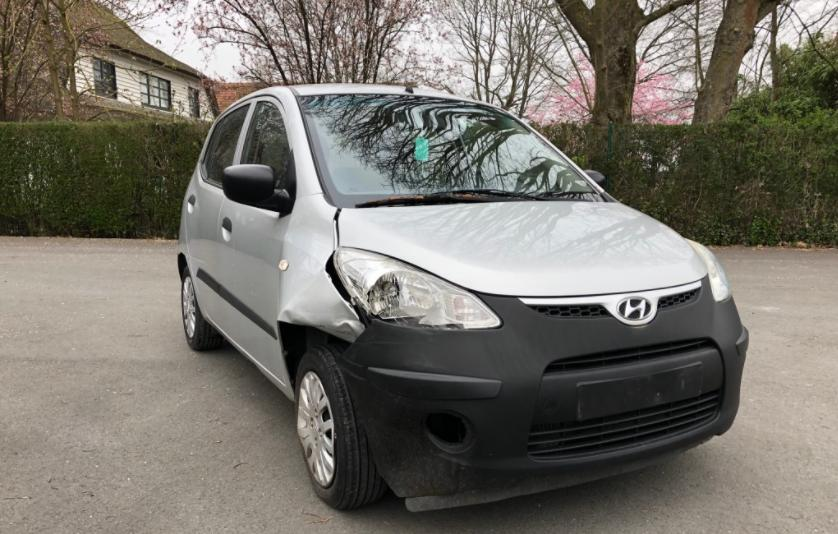Back-door: (185, 96, 258, 326)
Back-wheel: (181, 266, 223, 351)
Back-window: (200, 103, 250, 189)
Fender: (277, 194, 366, 344)
Front-bumper: (338, 276, 749, 513)
Front-door: (218, 96, 297, 383)
Front-wheel: (294, 344, 385, 511)
Front-window: (240, 101, 292, 188)
Grille: (529, 394, 719, 458), (545, 339, 719, 375), (526, 305, 611, 319), (658, 287, 700, 310)
Headlight: (333, 247, 501, 331), (684, 238, 730, 302)
Hood: (336, 200, 707, 297)
Mirror: (222, 151, 296, 218), (583, 170, 605, 188)
Quarter-panel: (176, 177, 207, 316)
Rocker-panel: (202, 316, 293, 401)
Roof: (289, 83, 490, 107)
Windshield: (297, 93, 613, 208)
